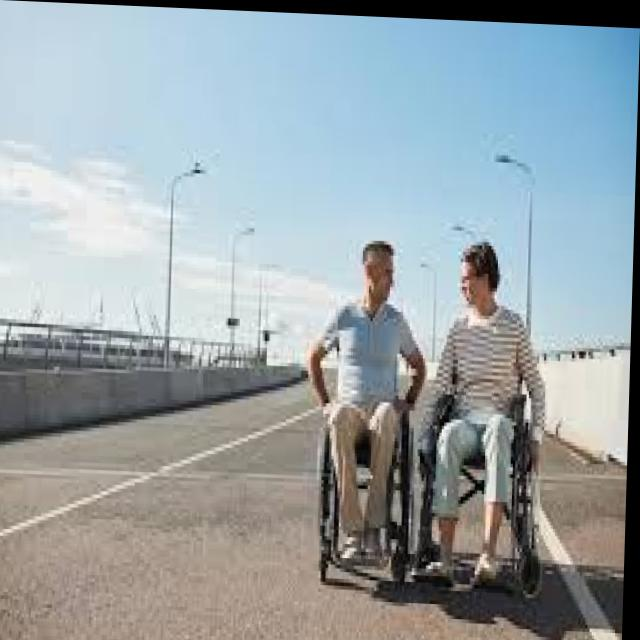wheelchair: (306, 225, 431, 591), (428, 233, 554, 593)
